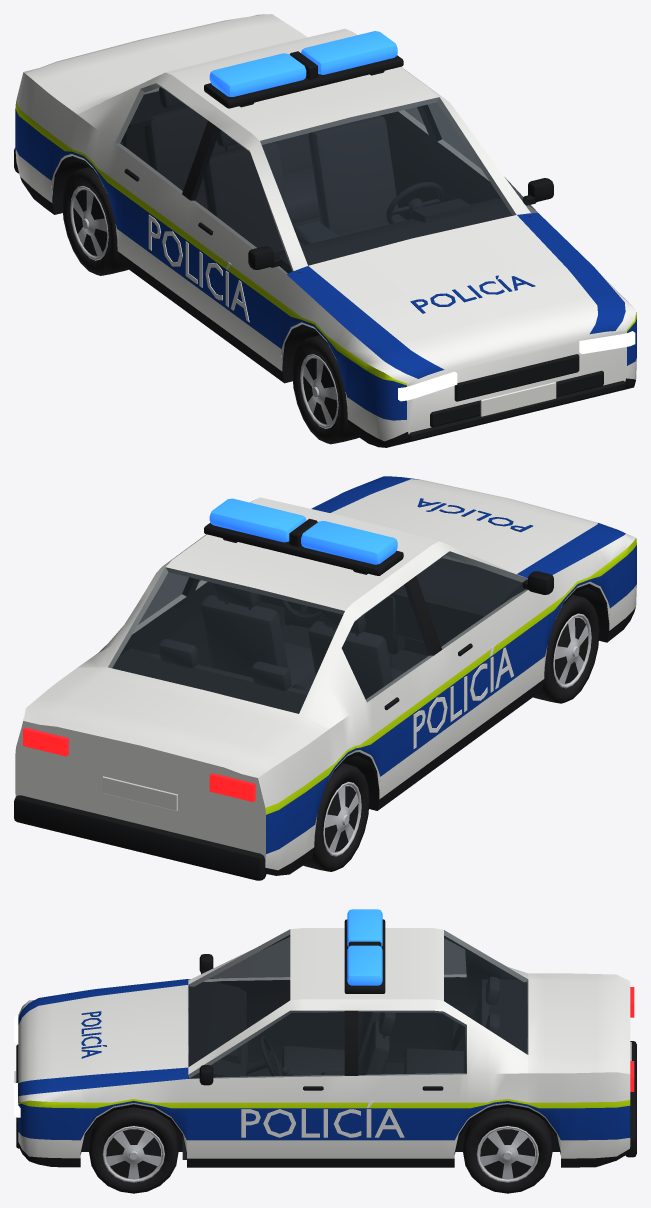
File: police_car.glb
3 views of the same model, one above another, from view 1: azimuth 30°, elevation 25°; view 2: azimuth 150°, elevation 25°; view 3: azimuth 270°, elevation 25° (orthographic). The views are drawn at different scales.
Parts seen in each view (by area): view 1: Body, Glass, Interior, Wheel_FR, Wheel_RR, Siren_R, LightBar, Siren_L, Headlights; view 2: Body, Glass, Interior, Wheel_RR, Wheel_FR, Siren_R, LightBar, Siren_L, Taillights; view 3: Body, Glass, Interior, Wheel_RL, Wheel_FL, Siren_L, Siren_R, LightBar.
Boxes of the visible parts, x1,y1,x2,y2 form: Body: [14, 14, 636, 447]; Glass: [115, 83, 537, 274]; Interior: [123, 87, 531, 344]; Wheel_FR: [292, 335, 358, 444]; Wheel_RR: [62, 167, 128, 275]; Siren_R: [209, 53, 306, 96]; LightBar: [204, 51, 403, 108]; Siren_L: [301, 31, 397, 74]; Headlights: [398, 331, 635, 401]; Body: [14, 476, 636, 880]; Glass: [108, 551, 527, 713]; Interior: [112, 558, 525, 713]; Wheel_RR: [303, 763, 369, 871]; Wheel_FR: [533, 595, 599, 703]; Siren_R: [301, 521, 397, 564]; LightBar: [204, 518, 403, 575]; Siren_L: [209, 498, 306, 542]; Taillights: [23, 727, 255, 801]; Body: [14, 928, 636, 1167]; Glass: [188, 929, 528, 1078]; Interior: [182, 976, 526, 1159]; Wheel_RL: [463, 1107, 552, 1193]; Wheel_FL: [89, 1107, 178, 1193]; Siren_L: [347, 945, 382, 985]; Siren_R: [347, 909, 382, 946]; LightBar: [344, 919, 385, 993].
Size of the model in its own units: 2.08 by 1.65 by 4.58.
